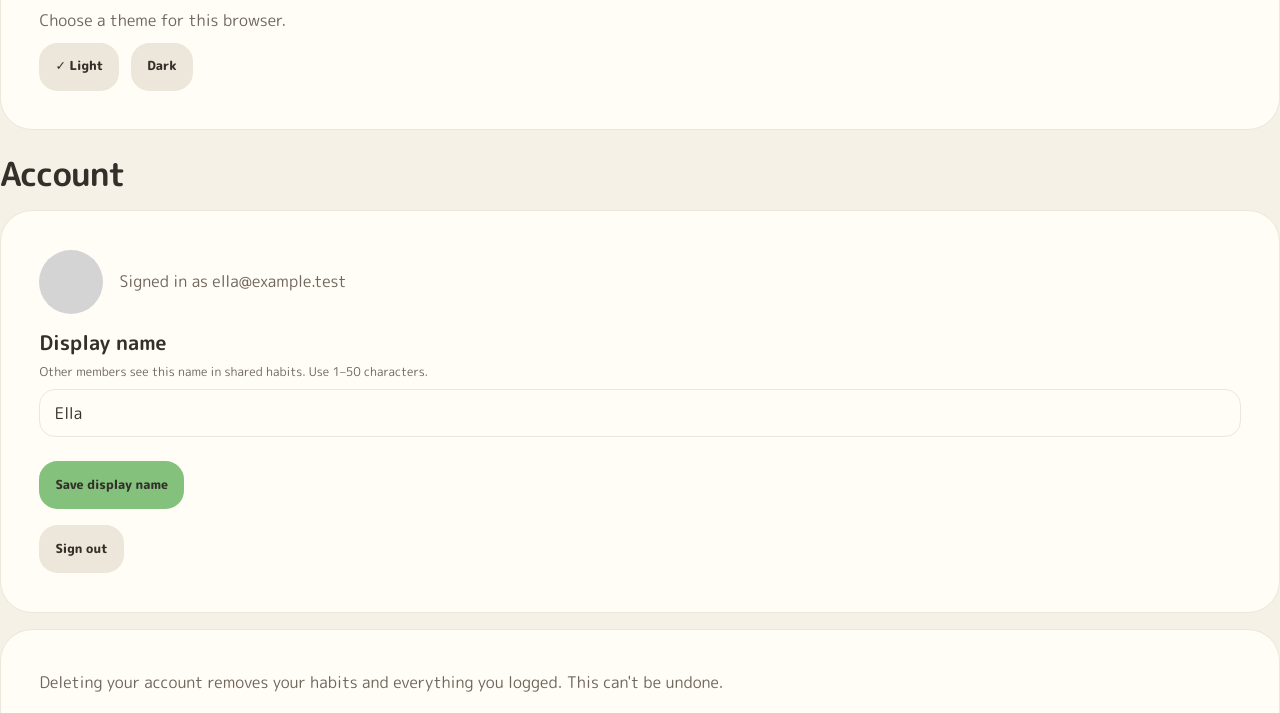
it: Settings display name (#259) › shows a backend validation error without losing the draft
The image size is (1280, 713).
(page scrolled)
Replace the text in the field labelled "Display name" with "Ella D" at (640, 413), box [39, 389, 1241, 437]
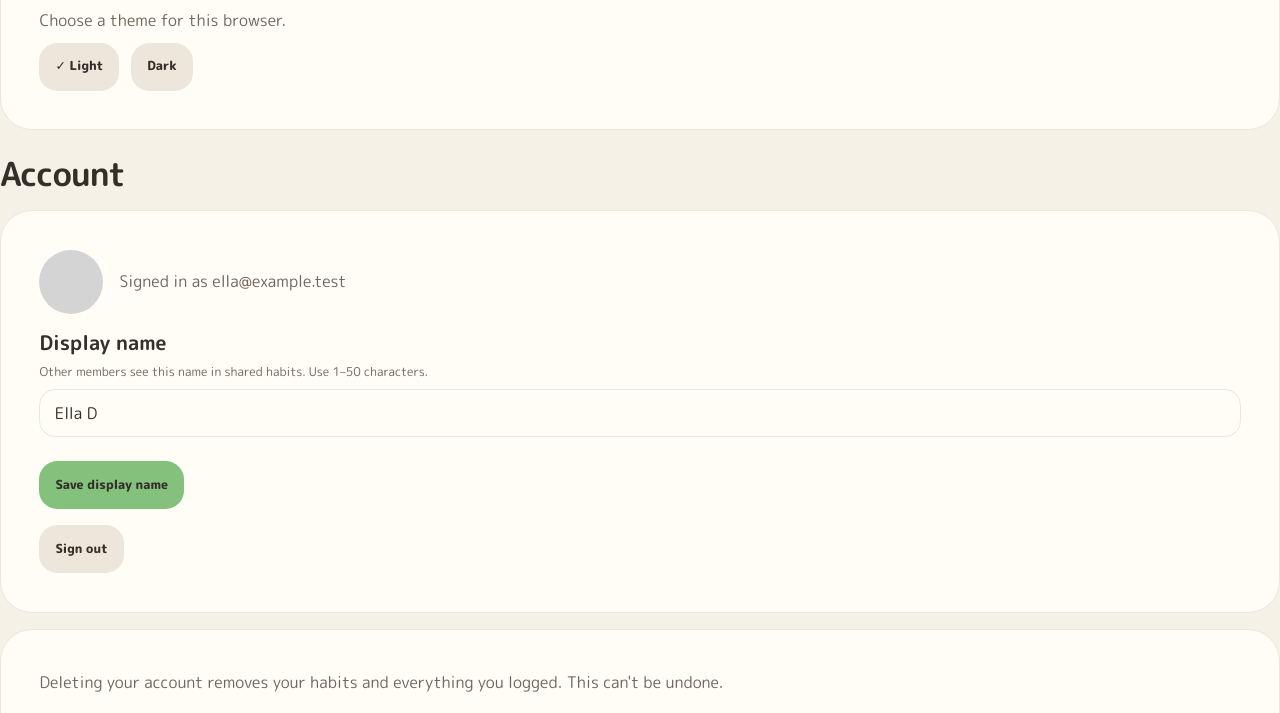
Click the button "Save display name" at (112, 485), box [39, 461, 184, 509]
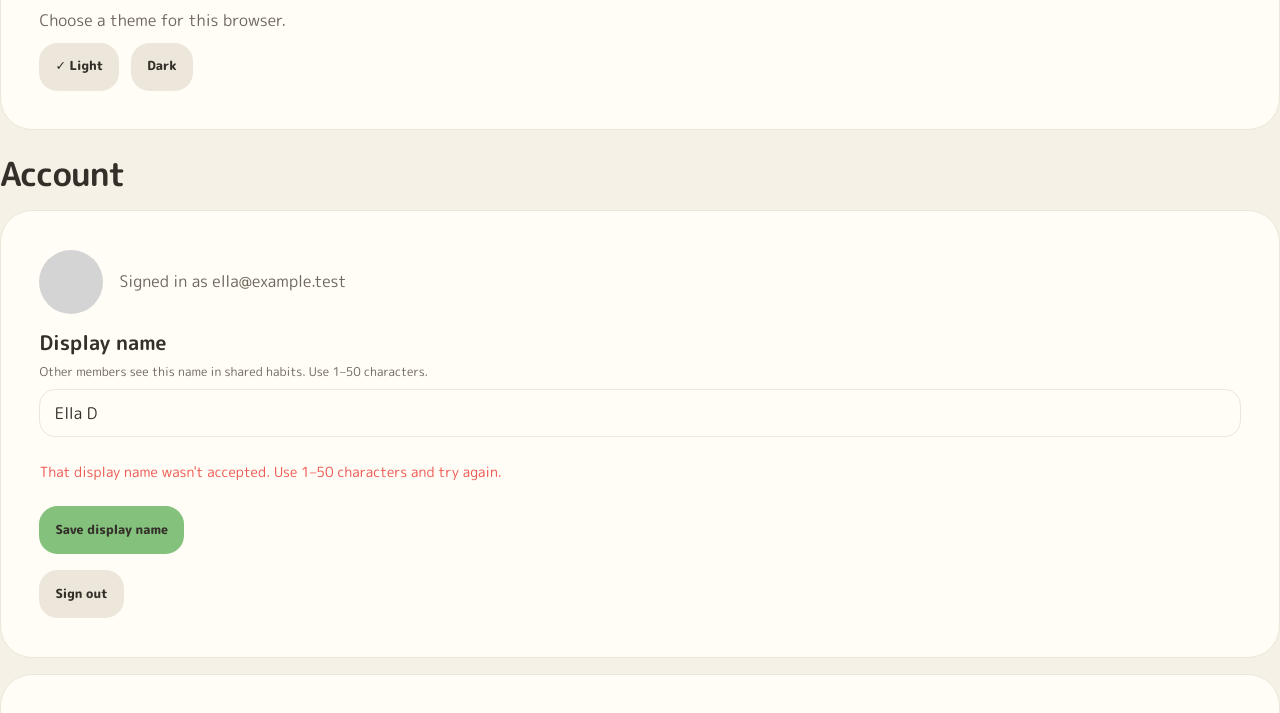
Expected: the message shows "That display name wasn't accepted", [39, 462, 502, 481]
